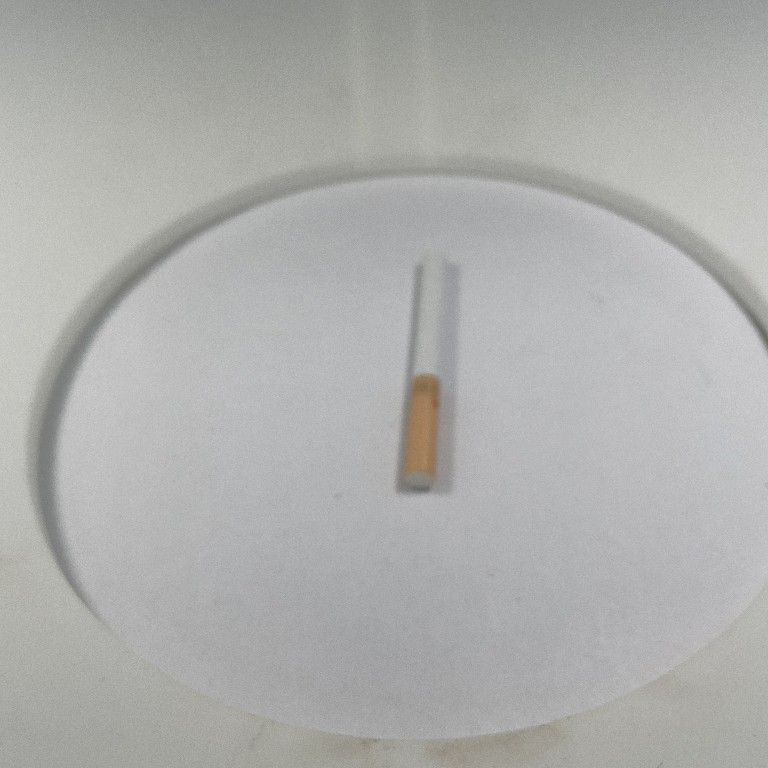cigarette: (397, 248, 456, 495)
